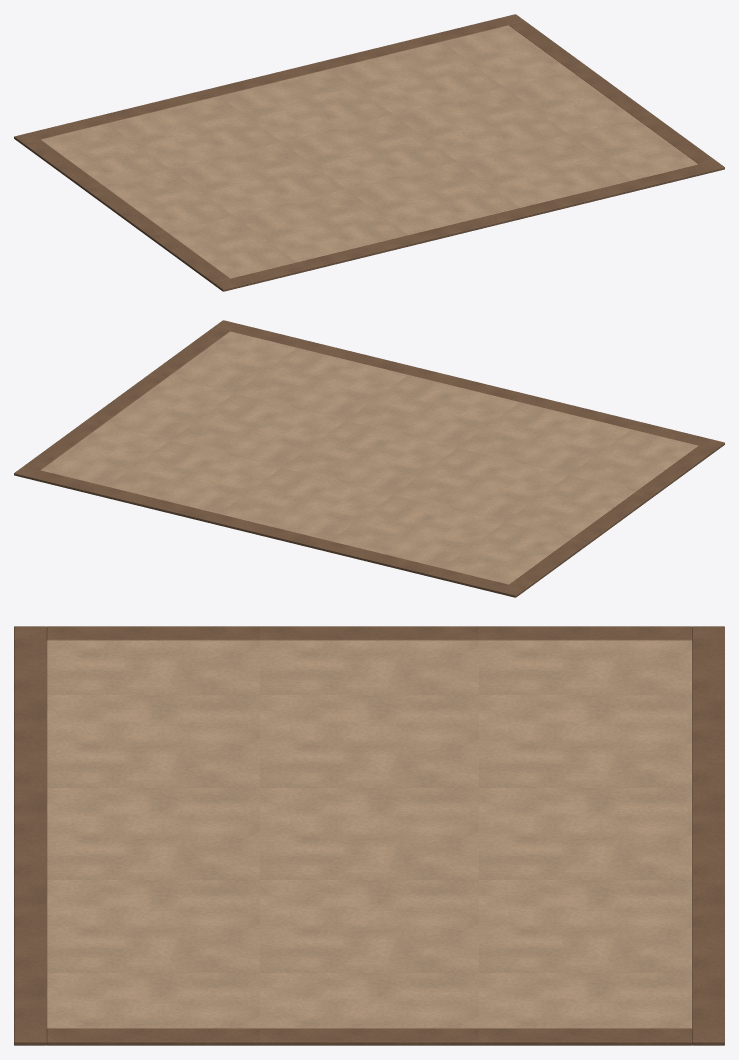
File: consulta.alfombra.fbx
The picture shows the model from 3 angles, top to bottom: view 1: azimuth 30°, elevation 25°; view 2: azimuth 150°, elevation 25°; view 3: azimuth 270°, elevation 25°; orthographic projection. The views are drawn at different scales.
Visible parts, largest first — view 1: Alfombra, Borde.001, Borde, Borde.003, Borde.002; view 2: Alfombra, Borde, Borde.001, Borde.003, Borde.002; view 3: Alfombra, Borde, Borde.001, Borde.002, Borde.003.
Boxes of the visible parts, x1,y1,x2,y2 form: Alfombra: [40, 25, 697, 278]; Borde.001: [213, 160, 724, 291]; Borde: [14, 14, 524, 145]; Borde.003: [23, 139, 229, 284]; Borde.002: [509, 21, 714, 164]; Alfombra: [41, 331, 698, 584]; Borde: [14, 466, 525, 597]; Borde.001: [214, 320, 724, 451]; Borde.003: [509, 445, 715, 590]; Borde.002: [24, 327, 229, 470]; Alfombra: [46, 640, 692, 1028]; Borde: [692, 626, 724, 1045]; Borde.001: [14, 626, 46, 1045]; Borde.002: [46, 1028, 692, 1045]; Borde.003: [46, 626, 692, 640].
Size of the model in its own units: 3.6 by 0.017 by 2.6.
Materials: 2 (2 with a texture image).
